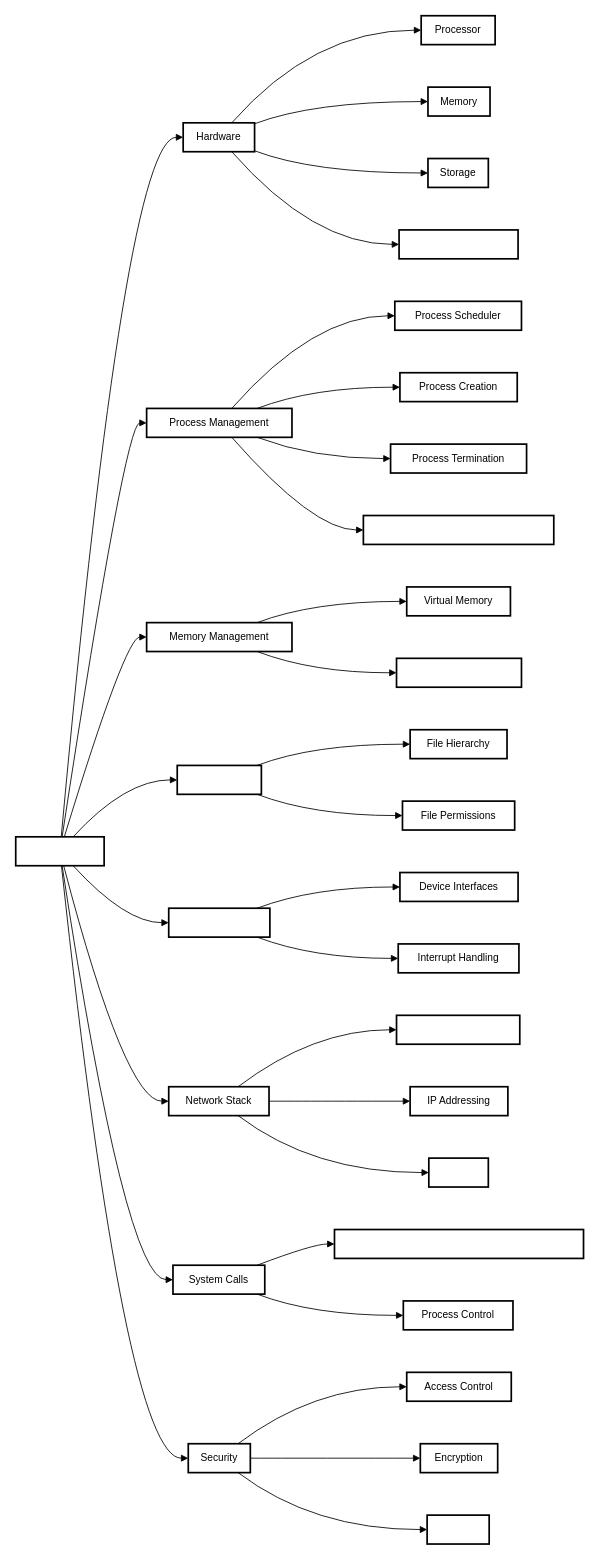
Image size: 598x1559. Some labels were removed from this diagram. Here are the shapes that lost their labels. From the top down, the centre of each, then its label:
(458,244): Network Interface
(458,529): Inter-process Communication
(458,672): Memory Allocation
(219,779): File System
(59,851): Linux Kernel
(218,922): Device Drivers
(457,1029): Network Protocols
(458,1172): Routing
(458,1243): Interface between Userland and Kernel
(458,1529): Auditing
